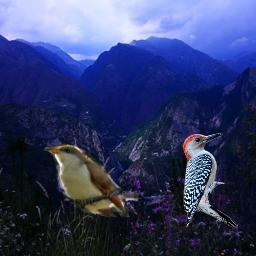Cuckoo: (42, 138, 138, 217)
Woodpecker: (178, 129, 242, 235)
